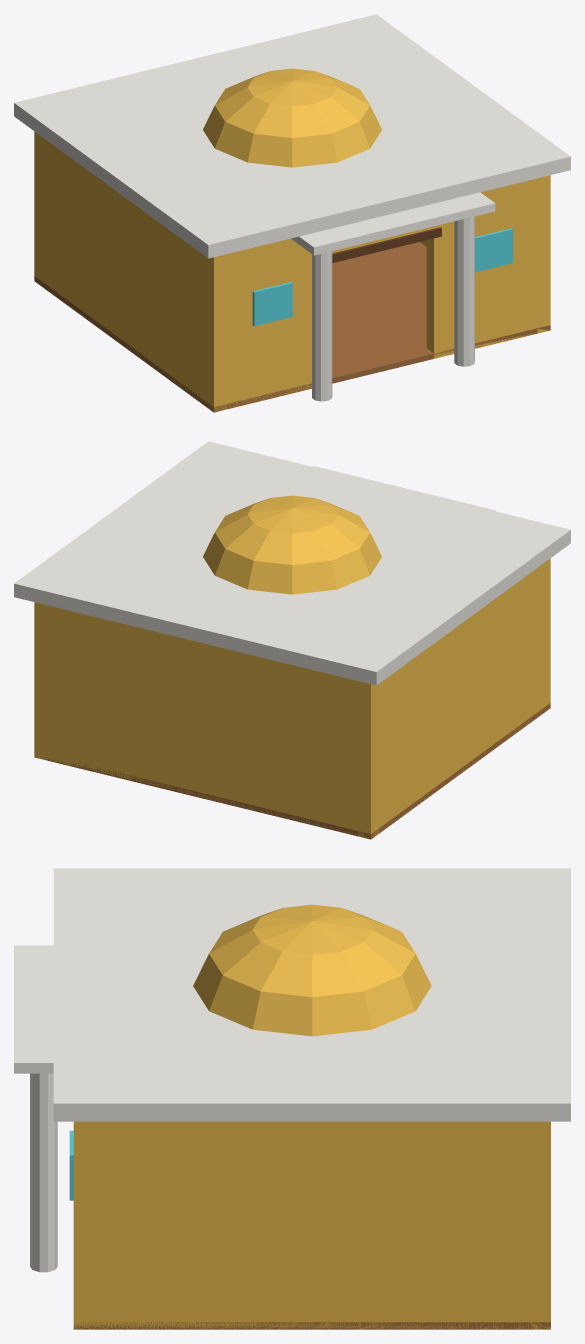
Rendered from mdl_casa_z5.fbx.
3 renders of one model, top to bottom at view 1: azimuth 30°, elevation 25°; view 2: azimuth 150°, elevation 25°; view 3: azimuth 270°, elevation 25°, orthographic. The views are drawn at different scales.
Visible parts, largest first — view 1: mdl_casa_z5; view 2: mdl_casa_z5; view 3: mdl_casa_z5.
Boxes of the visible parts, bbox=[...] form: mdl_casa_z5: bbox=[14, 14, 570, 412]; mdl_casa_z5: bbox=[14, 441, 570, 839]; mdl_casa_z5: bbox=[14, 868, 570, 1329].
Bounding box in the file's own units: 2800 × 1660 × 2800.
